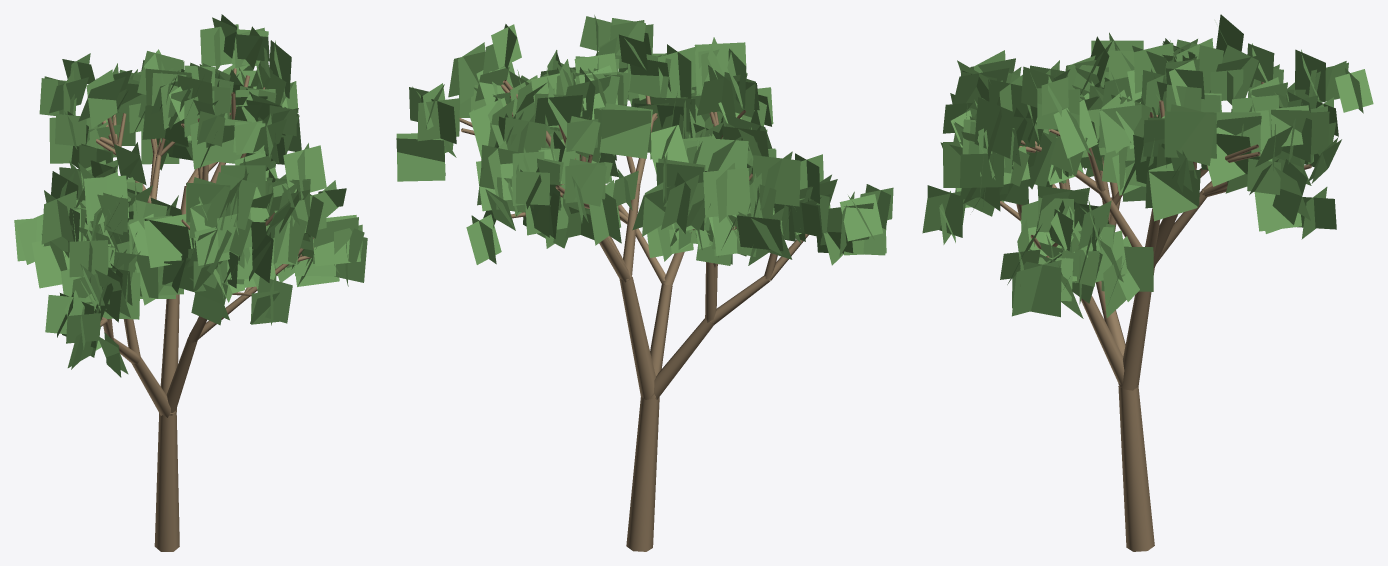
Rendered from tree_a.glb.
The picture shows the model from 3 angles, left to right: view 1: azimuth 30°, elevation 25°; view 2: azimuth 150°, elevation 25°; view 3: azimuth 270°, elevation 25°; orthographic projection. The views are drawn at different scales.
Parts seen in each view (by area): view 1: tree_a_leaves, tree_a_wood; view 2: tree_a_leaves, tree_a_wood; view 3: tree_a_leaves, tree_a_wood.
Boxes of the visible parts, x1=… form: tree_a_leaves: x1=14, y1=14, x2=367, y2=377; tree_a_wood: x1=86, y1=68, x2=313, y2=551; tree_a_leaves: x1=396, y1=15, x2=893, y2=265; tree_a_wood: x1=459, y1=80, x2=808, y2=551; tree_a_leaves: x1=922, y1=14, x2=1373, y2=318; tree_a_wood: x1=1000, y1=81, x2=1311, y2=551.
Bounding box in the file's own units: 7.92 × 10.82 × 8.21.
